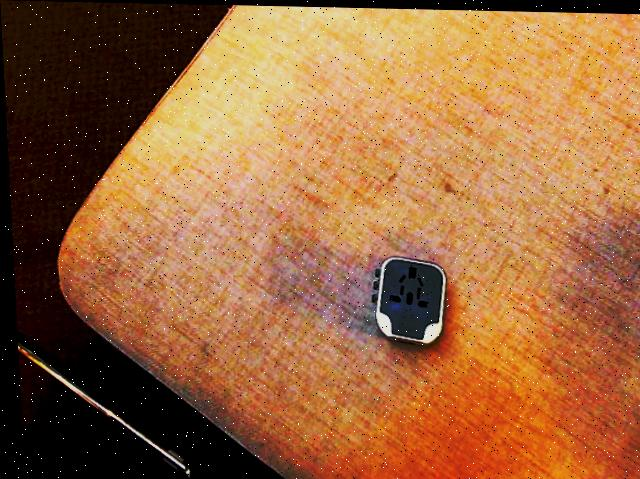adapter: (366, 254, 446, 344)
